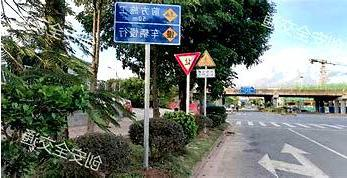sign: (113, 1, 181, 44)
